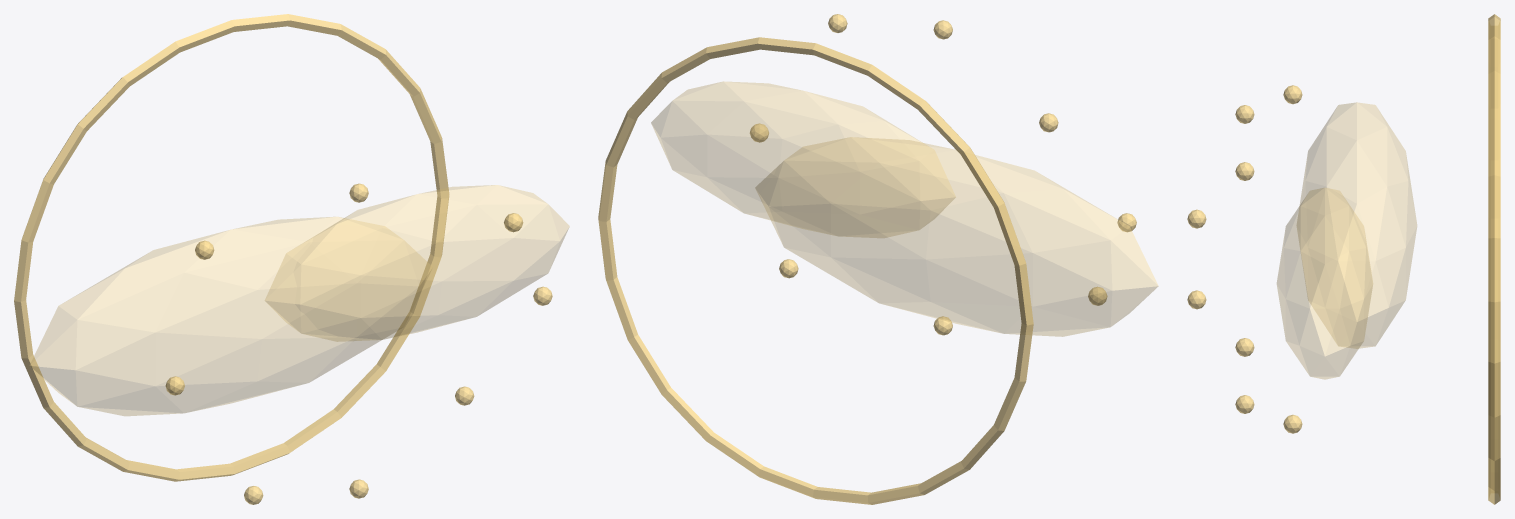
Rendered from 04_atmosphere.glb.
3 views of the same model, side by side, from view 1: azimuth 30°, elevation 25°; view 2: azimuth 150°, elevation 25°; view 3: azimuth 270°, elevation 25° (orthographic). The views are drawn at different scales.
Visible parts, largest first — view 1: cloud_or_nebula_a, cloud_or_nebula_b, horizon_ring; view 2: cloud_or_nebula_a, cloud_or_nebula_b, horizon_ring; view 3: cloud_or_nebula_a, cloud_or_nebula_b, horizon_ring.
Part boxes in pixels (x1,y1,x2,y2): cloud_or_nebula_a: (29, 217, 432, 415); cloud_or_nebula_b: (265, 185, 569, 341); horizon_ring: (14, 14, 449, 481); cloud_or_nebula_a: (755, 137, 1158, 336); cloud_or_nebula_b: (651, 81, 955, 237); horizon_ring: (598, 37, 1033, 504); cloud_or_nebula_a: (1297, 102, 1416, 348); cloud_or_nebula_b: (1277, 188, 1372, 379); horizon_ring: (1488, 14, 1500, 504).
Bounding box in the file's own units: 1.85 × 1.54 × 0.979.
